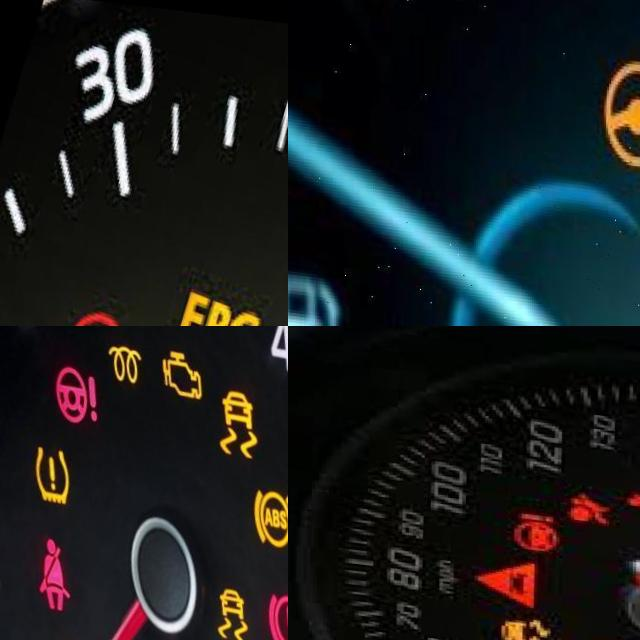Electronic Power Steering: (52, 357, 104, 423), (512, 503, 562, 549), (61, 302, 147, 326)
Electronic Power Steering Warning: (600, 43, 640, 166)
Seat Belt: (37, 530, 77, 607), (626, 478, 640, 511)
